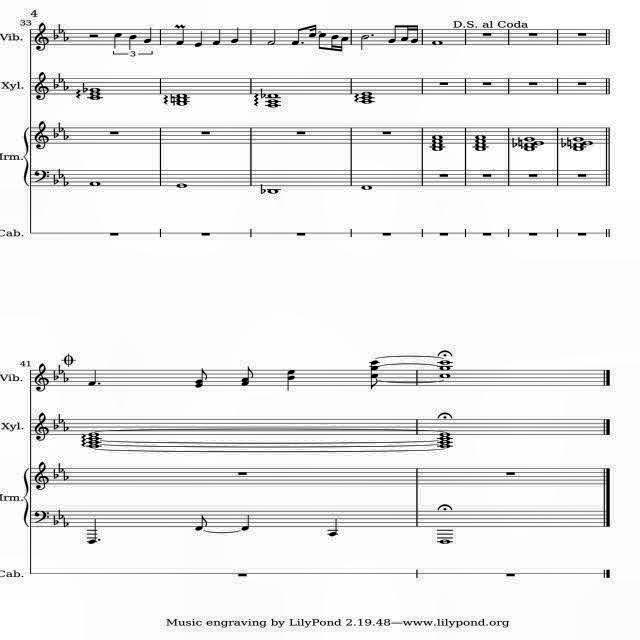Bass-clef: (30, 461, 51, 491), (31, 364, 50, 392), (34, 69, 50, 101), (34, 118, 50, 150), (32, 22, 48, 52), (34, 412, 50, 442)
Bemol: (61, 176, 71, 187), (50, 468, 60, 479), (56, 72, 64, 84), (56, 122, 64, 134), (51, 514, 59, 526), (50, 78, 58, 89), (56, 412, 64, 423), (52, 28, 59, 40), (51, 370, 58, 382), (52, 418, 59, 430), (62, 80, 70, 90), (51, 128, 59, 138), (62, 130, 70, 140), (56, 169, 64, 179), (52, 174, 60, 184), (258, 184, 266, 194), (510, 138, 518, 148), (62, 372, 70, 382), (62, 421, 70, 431), (56, 463, 64, 473), (62, 471, 70, 481), (56, 509, 64, 519), (63, 30, 69, 42), (259, 89, 267, 98), (560, 136, 566, 148), (61, 518, 70, 526), (57, 24, 63, 34), (81, 82, 87, 92), (57, 365, 63, 375)
Eighth-note: (192, 513, 208, 531), (386, 23, 398, 45), (288, 28, 300, 46), (318, 34, 327, 50)
Full-note: (87, 180, 101, 188), (358, 185, 374, 191), (432, 39, 444, 45), (176, 92, 188, 98), (176, 183, 188, 189), (268, 188, 280, 194), (475, 134, 487, 140), (572, 146, 584, 152), (440, 539, 452, 545), (574, 136, 584, 142), (583, 140, 593, 146), (88, 88, 102, 92), (88, 92, 102, 96), (88, 96, 102, 100), (176, 102, 188, 106), (267, 100, 279, 104), (268, 104, 280, 108), (360, 92, 372, 96), (360, 96, 372, 100), (360, 100, 372, 104), (474, 140, 486, 144), (474, 143, 486, 147), (474, 147, 486, 151), (524, 138, 536, 142), (536, 140, 544, 146), (524, 142, 536, 146), (572, 143, 584, 147), (439, 360, 451, 364), (439, 366, 451, 370), (440, 374, 452, 378), (88, 432, 100, 436), (88, 436, 100, 440), (88, 440, 100, 444), (438, 432, 450, 436), (440, 440, 452, 444), (438, 444, 450, 448), (432, 139, 443, 143), (177, 98, 187, 102), (269, 94, 279, 98), (432, 135, 442, 139), (432, 143, 442, 147), (433, 147, 443, 151), (525, 147, 535, 151), (89, 444, 99, 448), (440, 436, 450, 440)
Half-note: (356, 34, 369, 50), (266, 29, 278, 46)
Quarter-note: (81, 518, 97, 546), (324, 516, 340, 538), (172, 29, 186, 47), (83, 368, 97, 386), (110, 32, 122, 52), (142, 27, 154, 46), (126, 34, 138, 50), (240, 515, 252, 531), (193, 30, 203, 48), (211, 28, 221, 46), (229, 26, 239, 44)
Sixteenth-note: (410, 23, 418, 44), (329, 35, 338, 53), (340, 36, 350, 52), (402, 23, 410, 41), (309, 25, 317, 39)
